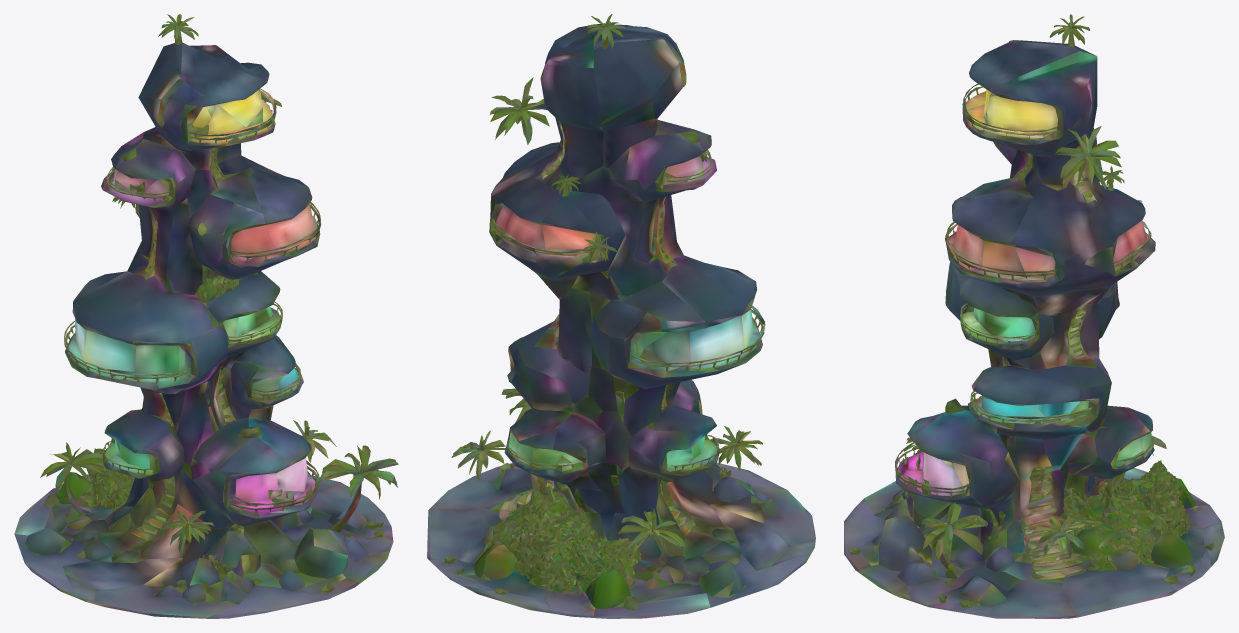
The model's file is bld-apartment-pod-block-lod2.glb.
3 views of the same model, side by side, from view 1: azimuth 30°, elevation 25°; view 2: azimuth 150°, elevation 25°; view 3: azimuth 270°, elevation 25° (orthographic). The views are drawn at different scales.
Visible parts, largest first — view 1: Mesh_0; view 2: Mesh_0; view 3: Mesh_0.
Part boxes in pixels (x1=…): Mesh_0: x1=14, y1=14, x2=398, y2=618; Mesh_0: x1=427, y1=14, x2=815, y2=618; Mesh_0: x1=844, y1=14, x2=1224, y2=618.
Size of the model in its own units: 1.27 by 1.9 by 1.27.
1 material, 1 textured.
